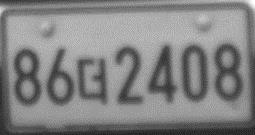0: (180, 43, 208, 103)
2: (113, 45, 145, 106)
4: (147, 43, 178, 103)
6: (44, 47, 75, 106)
8: (212, 42, 244, 102), (12, 48, 42, 105)
더: (75, 57, 109, 106)
